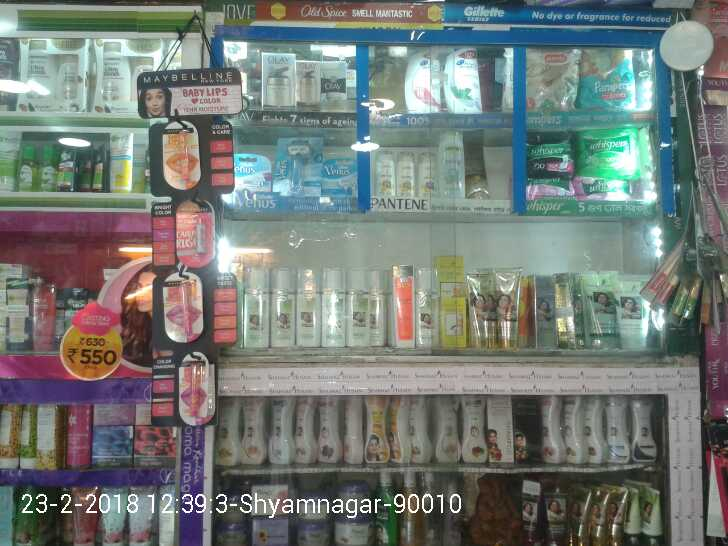venus: (275, 133, 324, 193), (237, 152, 270, 188), (324, 155, 355, 193)
